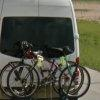Bicycle: (2, 38, 91, 97)
